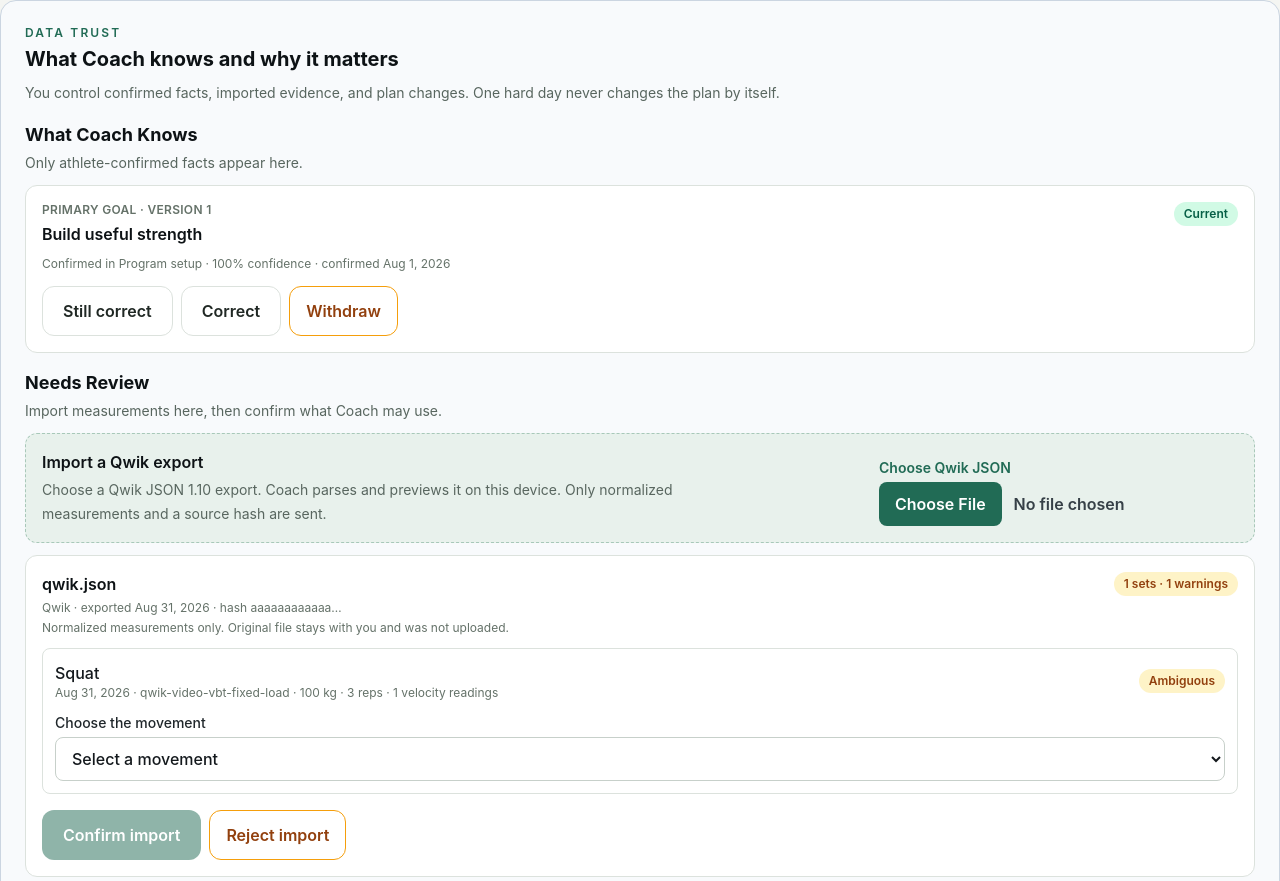
Scenario: CoachTrustCenter › shows the four trust layers and reuses an idempotency key after interruption
The image size is (1280, 881).
Check: the heading "What Coach Knows" is shown, box [25,124,198,145]
Check: the heading "Needs Review" is shown, box [25,372,149,393]
Click the button "Still correct": (107, 311) [42,286,173,336]
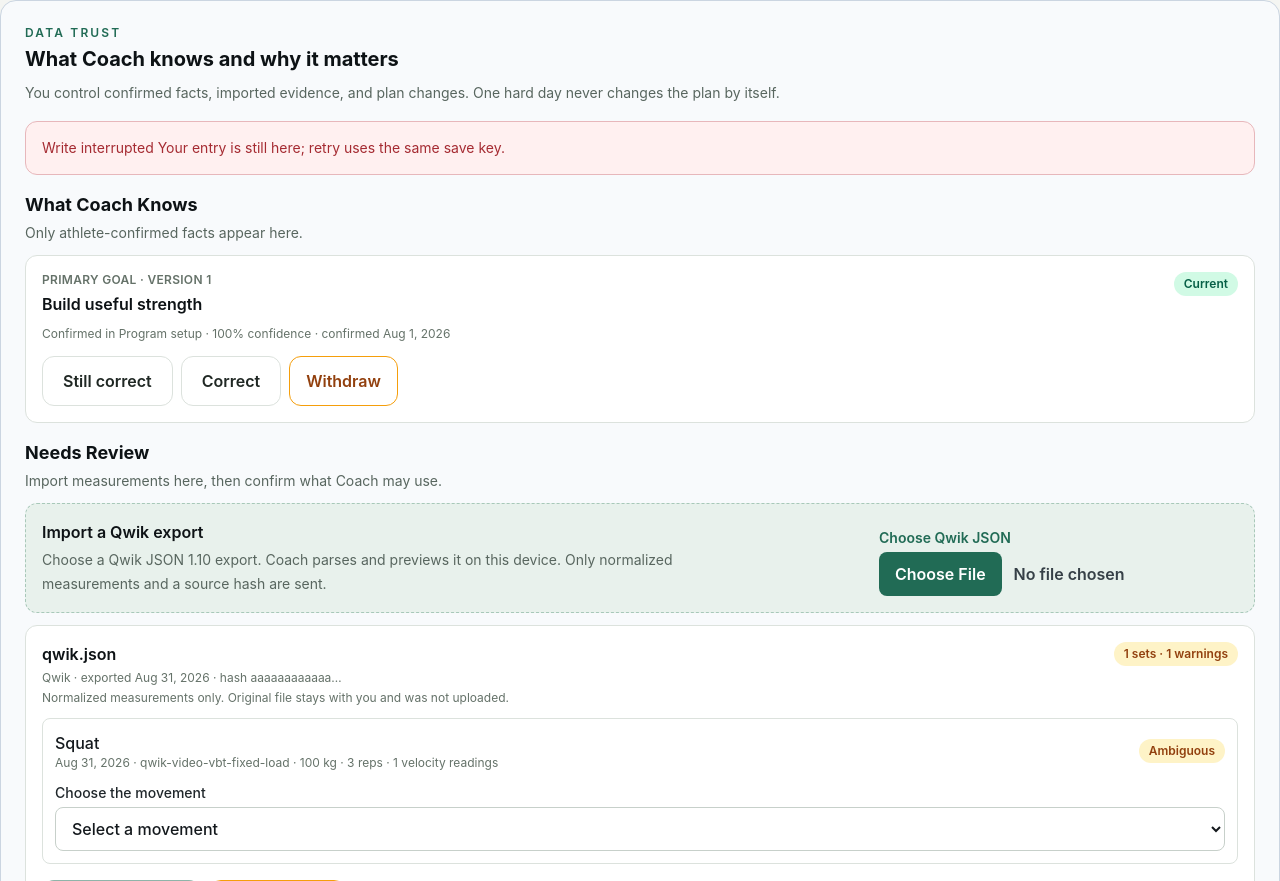
Check: the message shows "Write interrupted", box [42,139,505,156]
Click the button "Still correct": (107, 381) [42,356,173,406]
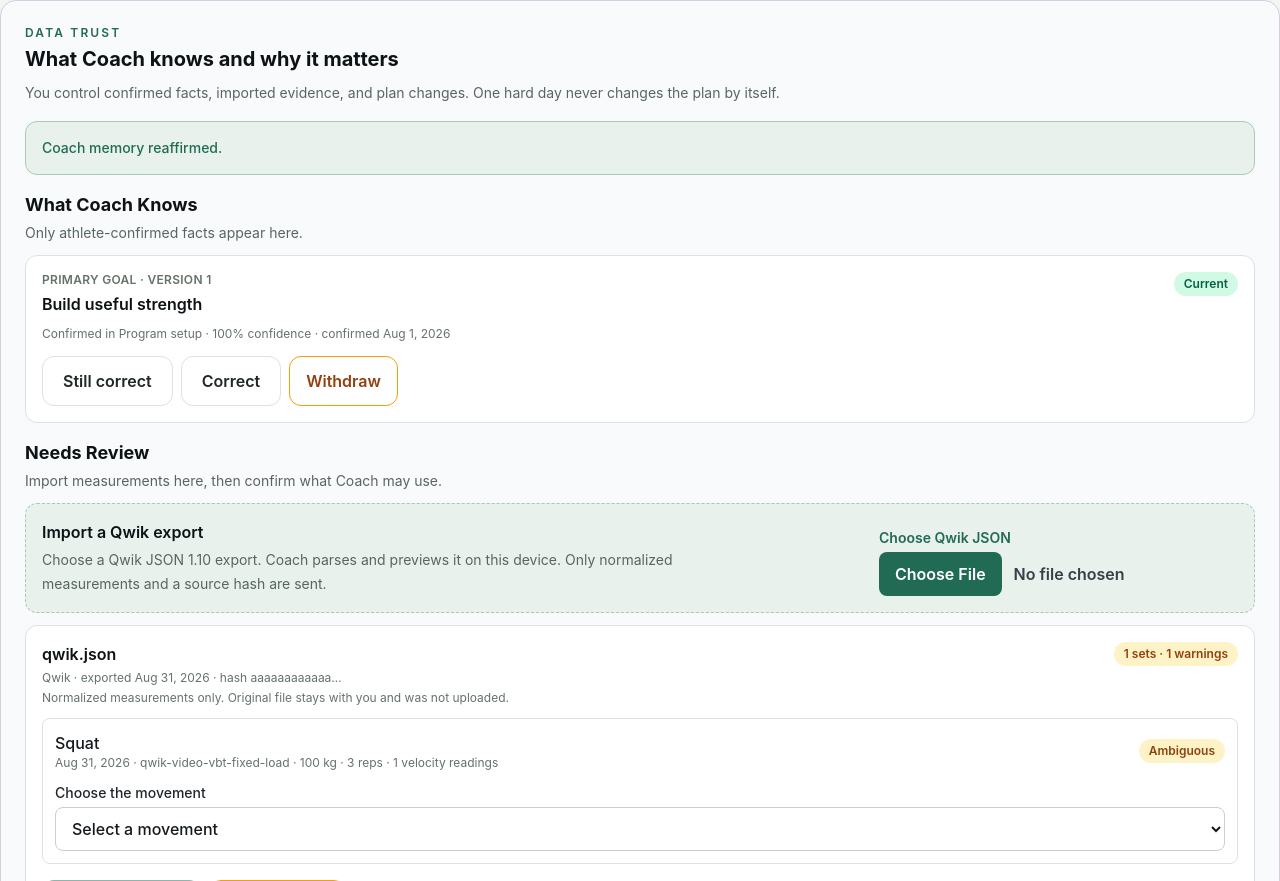
Check: the message shows "Coach memory reaffirmed", box [42,139,222,156]
